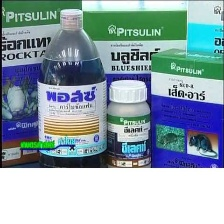book: (68, 3, 192, 167), (0, 0, 89, 172), (146, 45, 224, 202), (170, 0, 223, 131)
insecticide: (34, 7, 109, 189), (102, 77, 153, 179)
